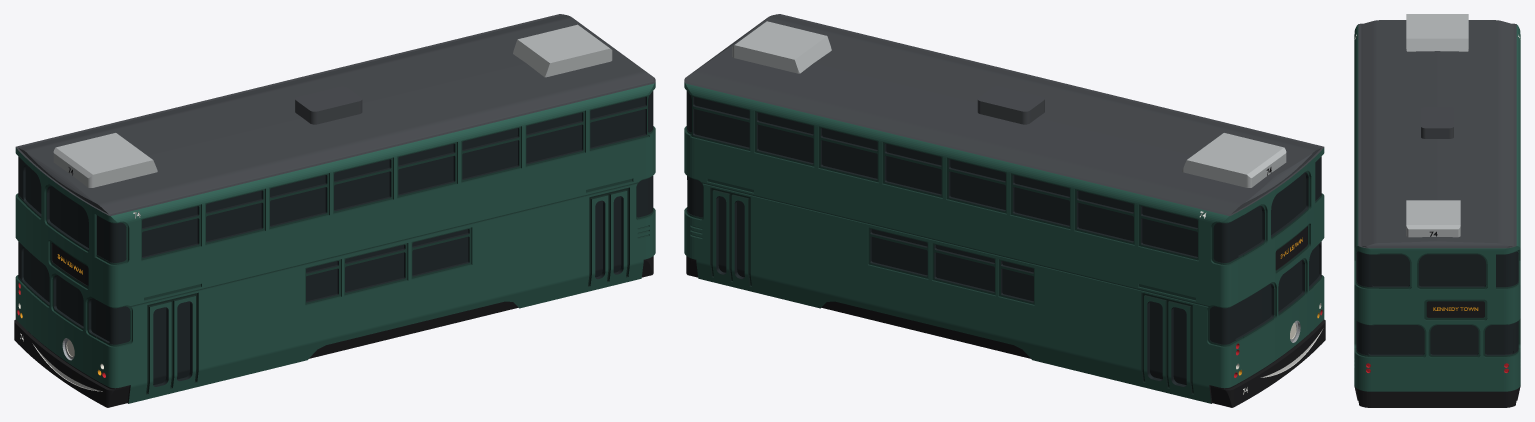
The model's file is hktram.glb.
The picture shows the model from 3 angles, left to right: view 1: azimuth 30°, elevation 25°; view 2: azimuth 150°, elevation 25°; view 3: azimuth 270°, elevation 25°; orthographic projection. The views are drawn at different scales.
Visible parts, largest first — view 1: hktramways_hktram; view 2: hktramways_hktram; view 3: hktramways_hktram.
Boxes of the visible parts, x1,y1,x2,y2 form: hktramways_hktram: [14, 14, 655, 407]; hktramways_hktram: [684, 14, 1325, 407]; hktramways_hktram: [1354, 14, 1520, 407].
Size of the model in its own units: 130 by 46.4 by 40.
